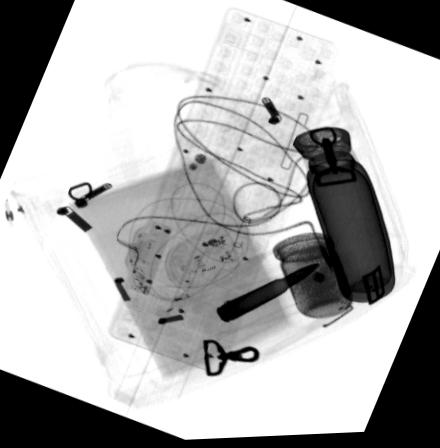Bullet: (214, 265, 322, 325)
